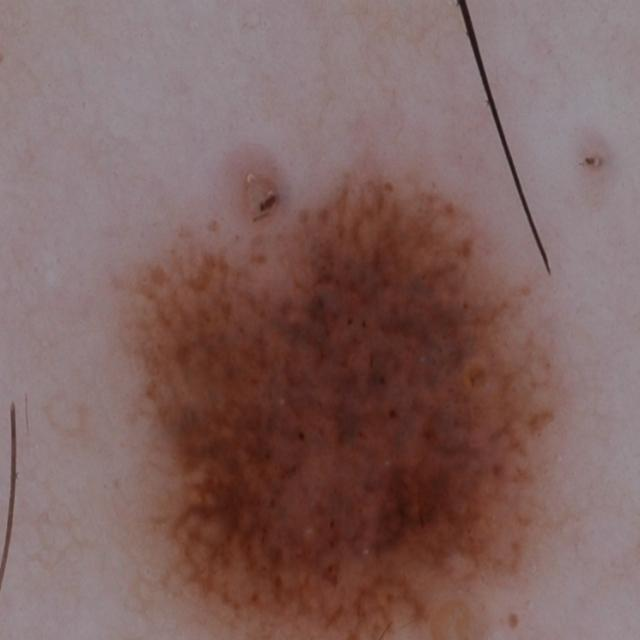Melanoma: (95, 133, 595, 640)
